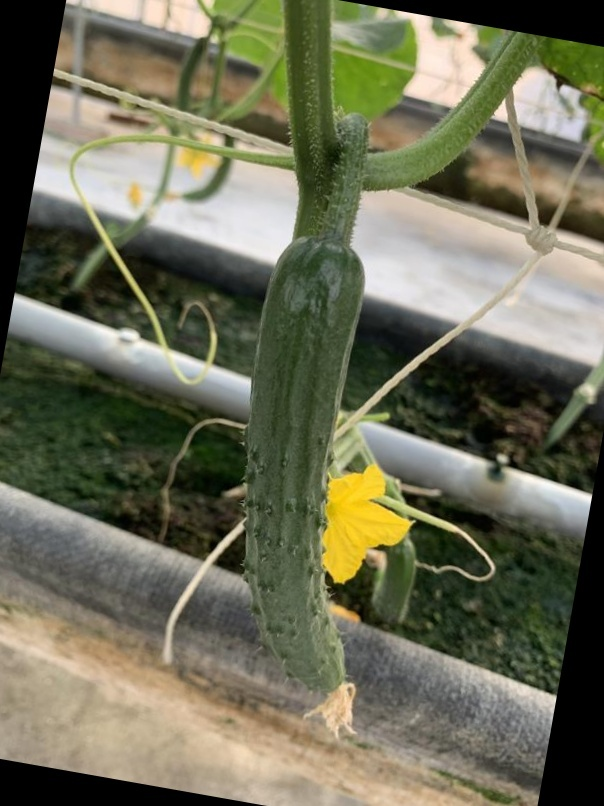growth: (213, 224, 390, 750)
